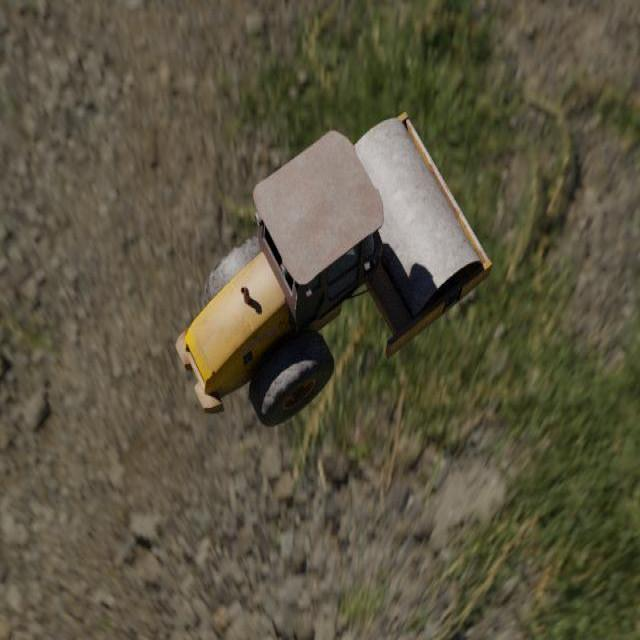Roller: (175, 110, 493, 427)
